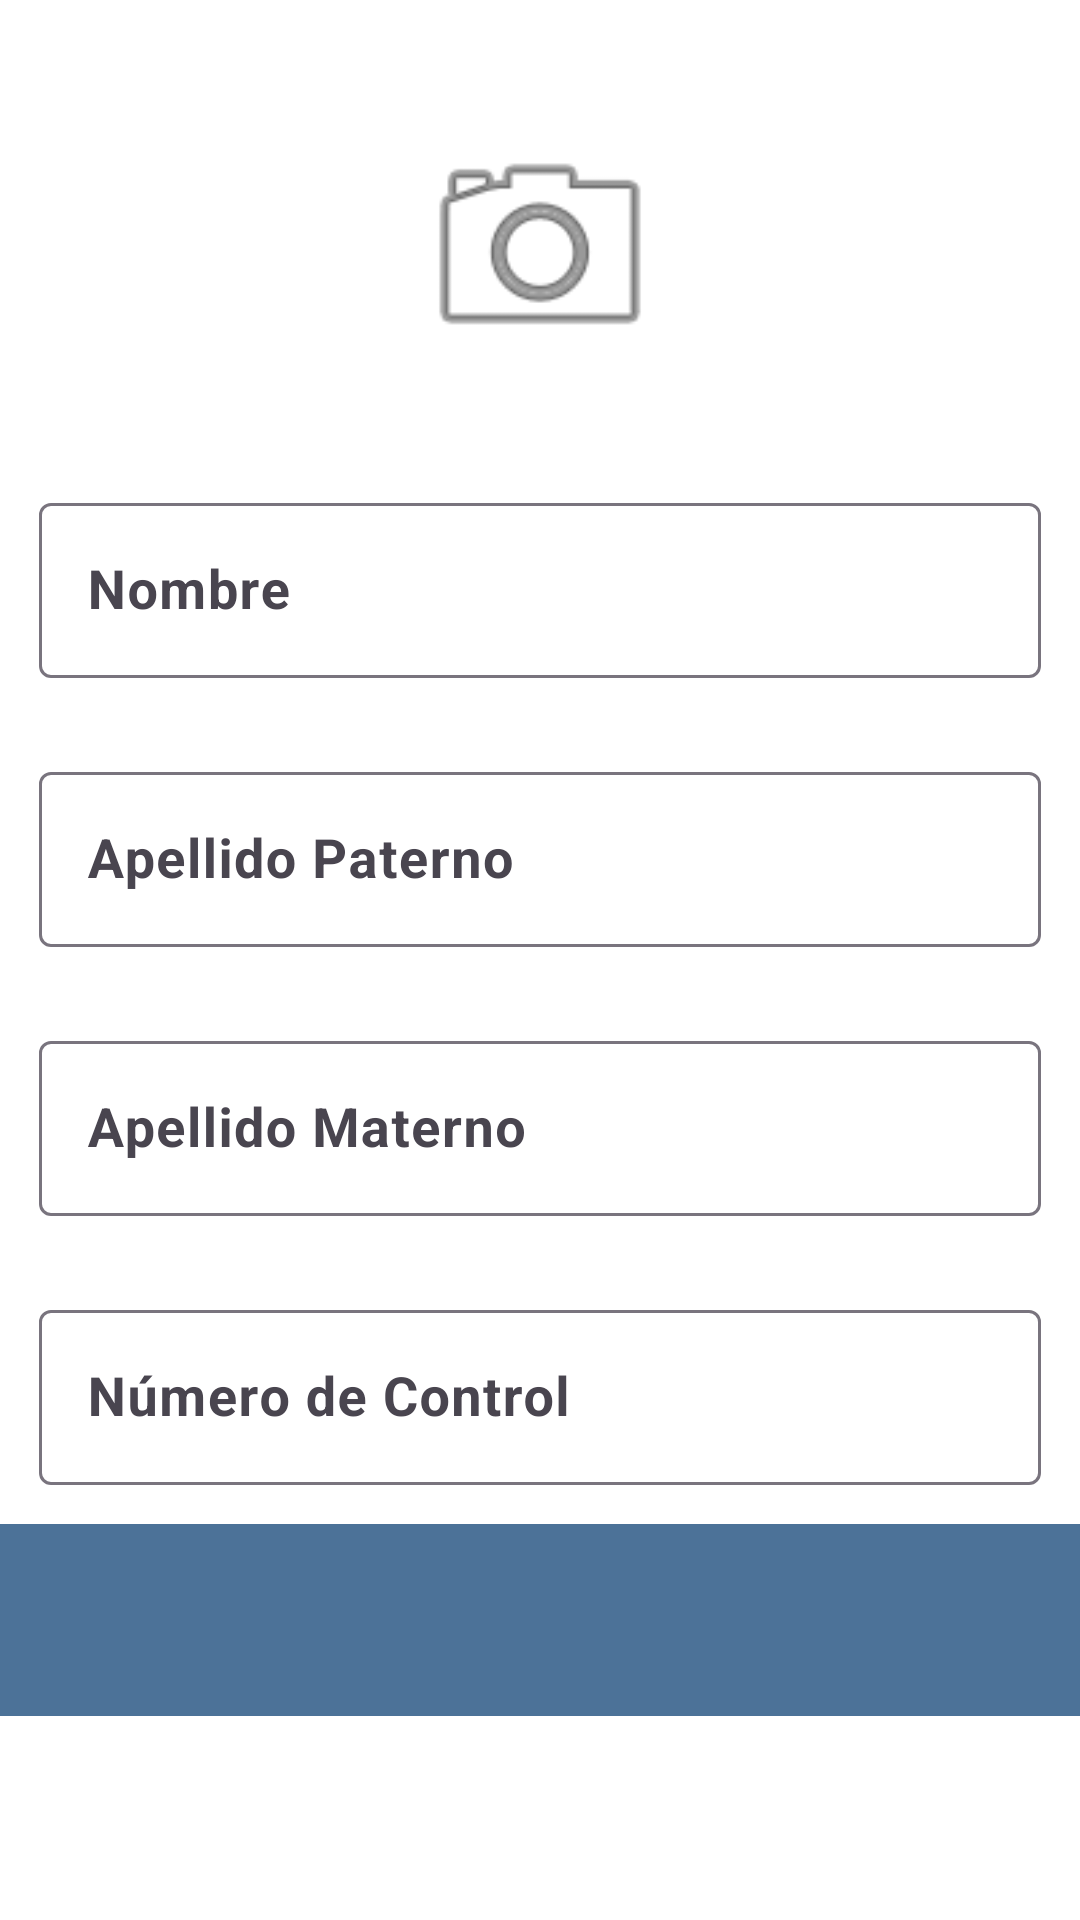

Icon bounding boxes for this 1080px×1920px phone screenshot, format (x1, y1, x2, y2):
camera: (439, 164, 641, 324)
